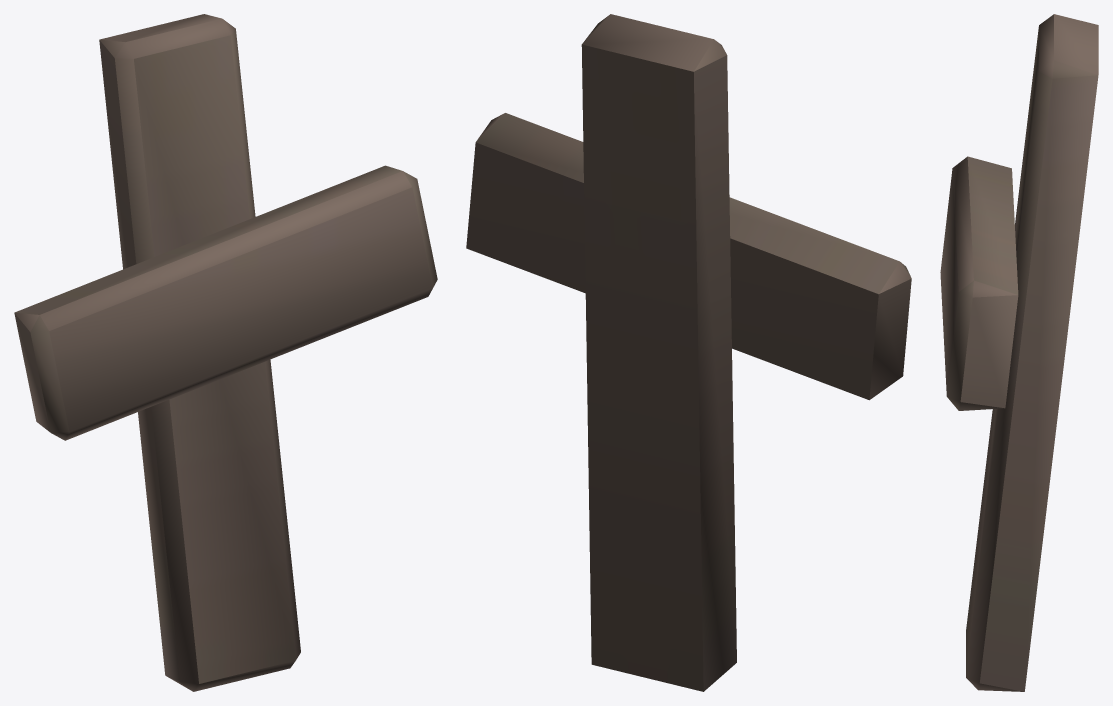
Rendered from gravemarker-a.glb.
3 renders of one model, left to right at view 1: azimuth 30°, elevation 25°; view 2: azimuth 150°, elevation 25°; view 3: azimuth 270°, elevation 25°, orthographic. The views are drawn at different scales.
Parts seen in each view (by area): view 1: gravemarker_A; view 2: gravemarker_A; view 3: gravemarker_A.
Part boxes in pixels (box(x1,y1,x2,y2)): gravemarker_A: box(14, 14, 437, 691); gravemarker_A: box(466, 14, 911, 691); gravemarker_A: box(940, 14, 1098, 691).
Size of the model in its own units: 0.8059 by 1.2 by 0.2782.
Materials: 1 (1 with a texture image).
